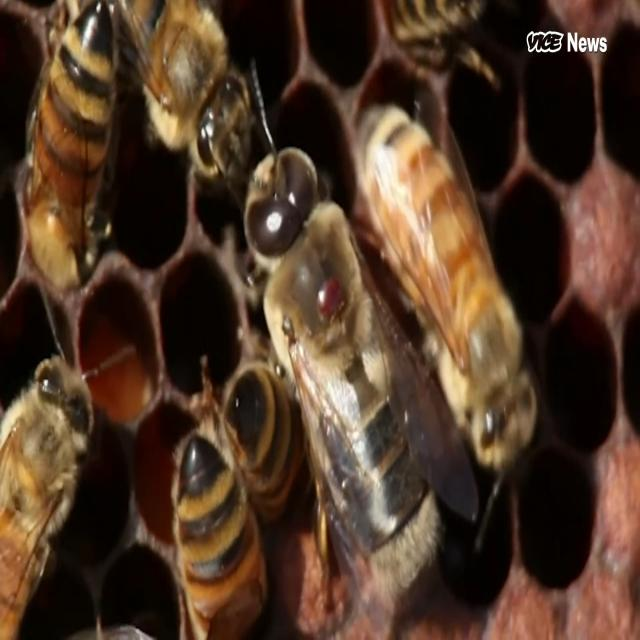Bees: (183, 70, 589, 627)
